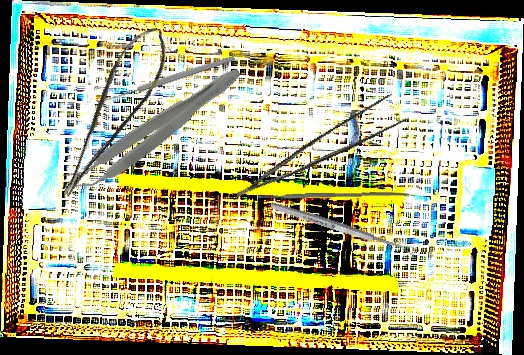Micro Scissor: (33, 19, 185, 201)
Scalpel Handle: (257, 190, 410, 200)
Surgical Spoon: (269, 200, 417, 257), (96, 53, 236, 107)
Tissue Forceps: (62, 54, 247, 203), (223, 91, 413, 198)
